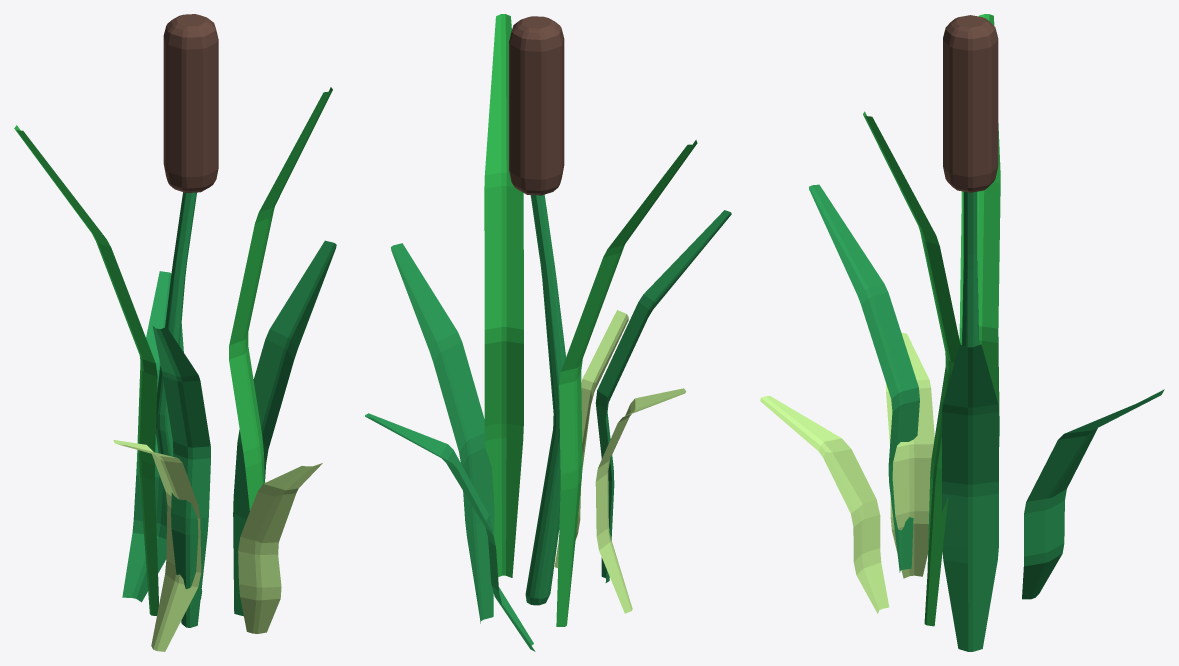
Rendered from tatarak.fbx.
3 renders of one model, left to right at view 1: azimuth 30°, elevation 25°; view 2: azimuth 150°, elevation 25°; view 3: azimuth 270°, elevation 25°, orthographic.
Parts seen in each view (by area): view 1: Cylinder.001; view 2: Cylinder.001; view 3: Cylinder.001.
Boxes of the visible parts, x1,y1,x2,y2 form: Cylinder.001: (14,14,336,651); Cylinder.001: (365,14,731,651); Cylinder.001: (760,14,1164,651).
Size of the model in its own units: 39.38 by 73.6 by 44.67.
